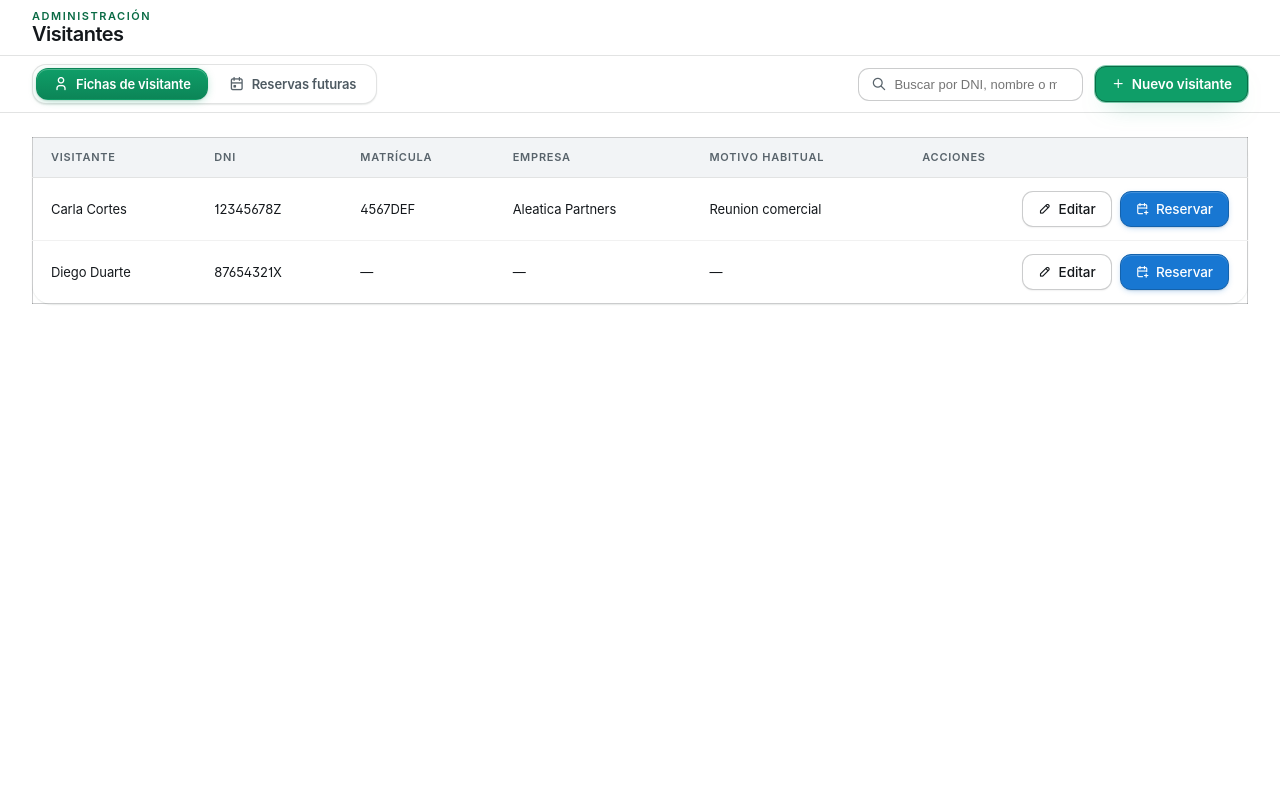
Scenario: VisitorsPage (ADMIN) › should_open_edit_form_prefilled_when_clicking_edit
Expected: the text "Carla Cortes" is shown, [32,178,196,240]
Click the button "Editar" in the row of "Carla Cortes" at (1067, 209), box [1022,191,1112,227]
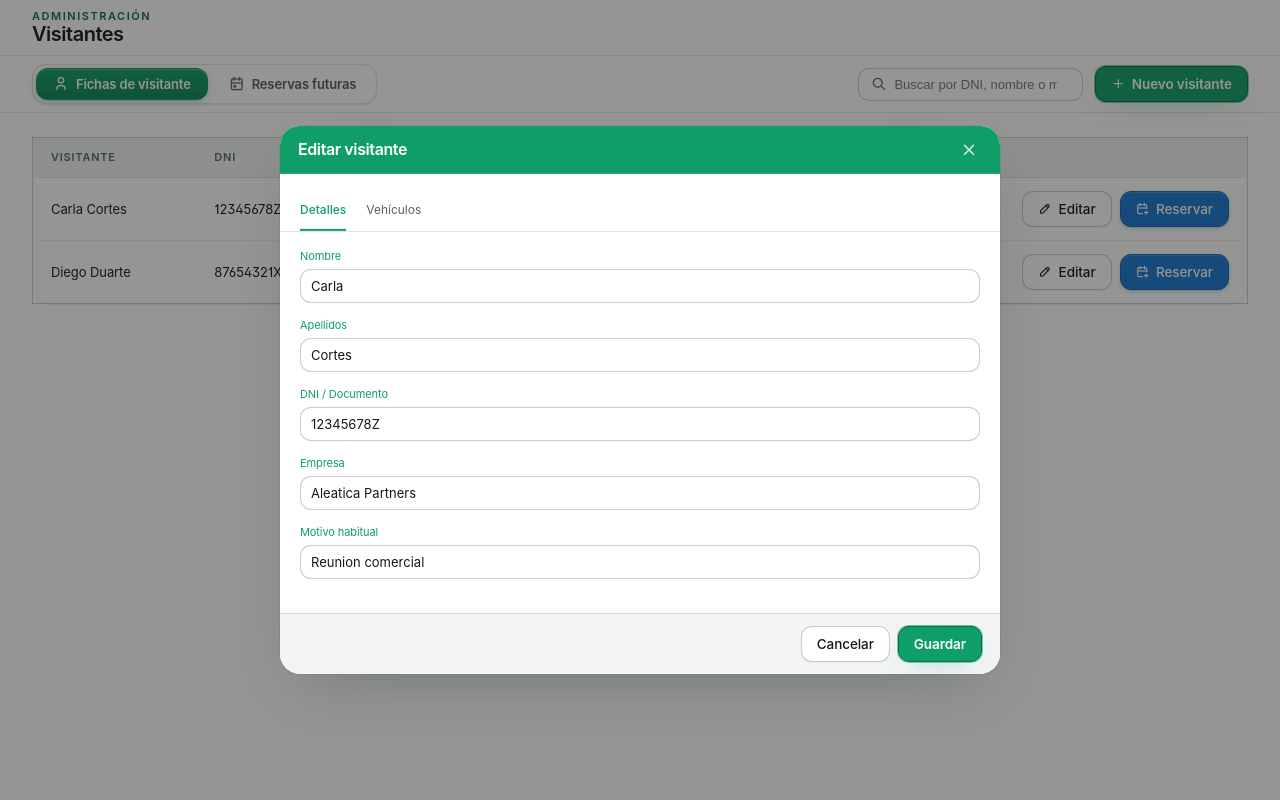
Expected: the heading "Editar visitante" is shown, [298,141,407,159]
Expected: the field labelled "Nombre" holds "Carla", [300,269,980,303]
